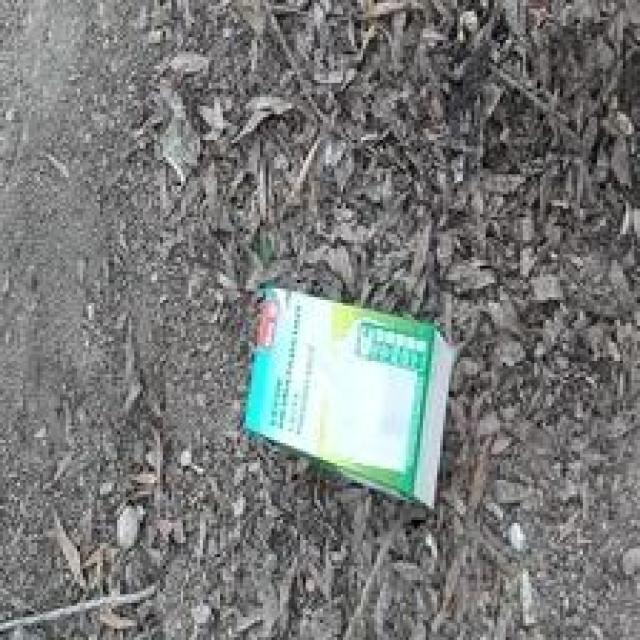Carton: (240, 288, 459, 514)
